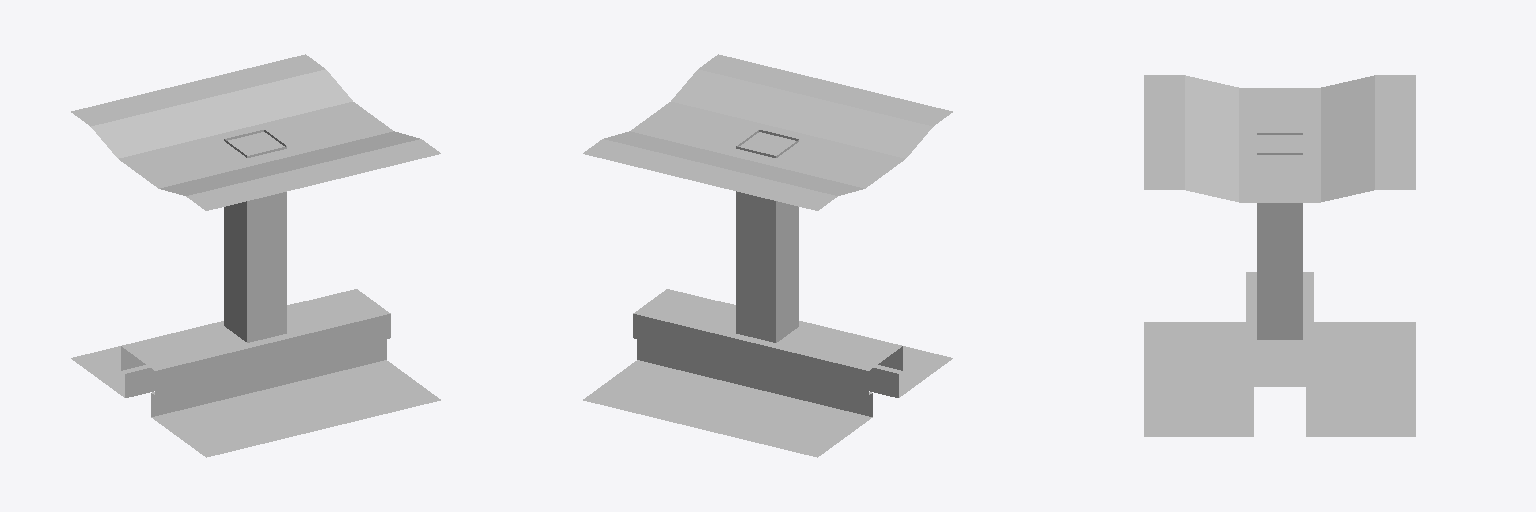
3 views of the same model, side by side, from view 1: azimuth 30°, elevation 25°; view 2: azimuth 150°, elevation 25°; view 3: azimuth 270°, elevation 25° (orthographic).
Parts seen in each view (by area): view 1: objobjDuplicate02; view 2: objobjDuplicate02; view 3: objobjDuplicate02.
Boxes of the visible parts, <box> form: objobjDuplicate02: <box>71,54,440,457</box>; objobjDuplicate02: <box>583,54,952,457</box>; objobjDuplicate02: <box>1144,75,1415,436</box>.
Bounding box in the file's own units: 10 × 10 × 10.